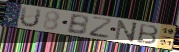8: (42, 10, 62, 32)
B: (66, 13, 90, 36), (137, 23, 160, 45)
N: (114, 19, 139, 43)
U: (18, 6, 43, 29)
Z: (89, 16, 115, 40)
